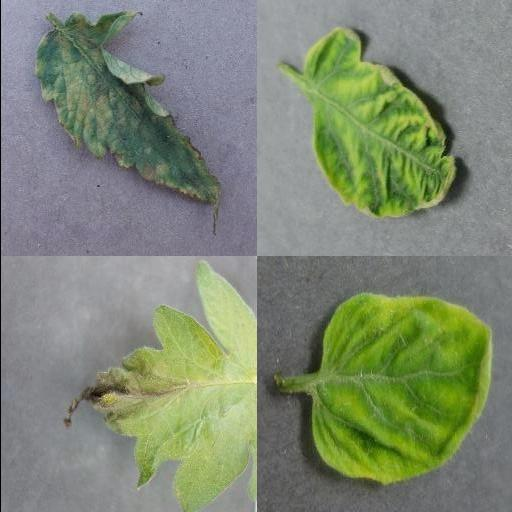Late Blight: (61, 258, 256, 512)
Leaf Mold: (31, 10, 223, 206)
Yellow Leaf Curl Virus: (310, 295, 492, 487), (302, 26, 456, 218)
